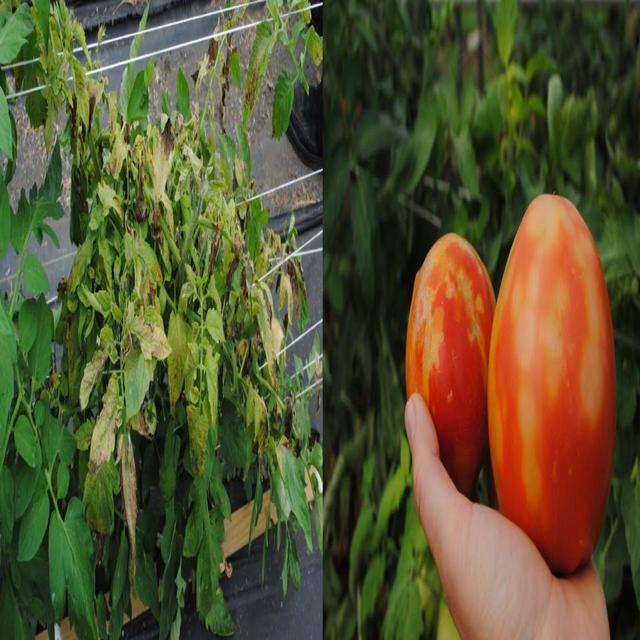Spotted wilt Virus Fruit: (61, 185, 369, 258)
